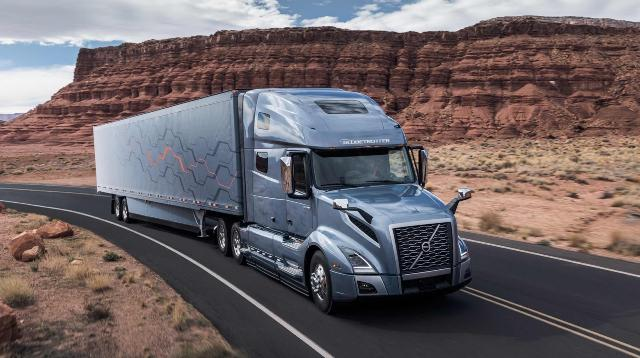truck: (64, 73, 502, 308)
